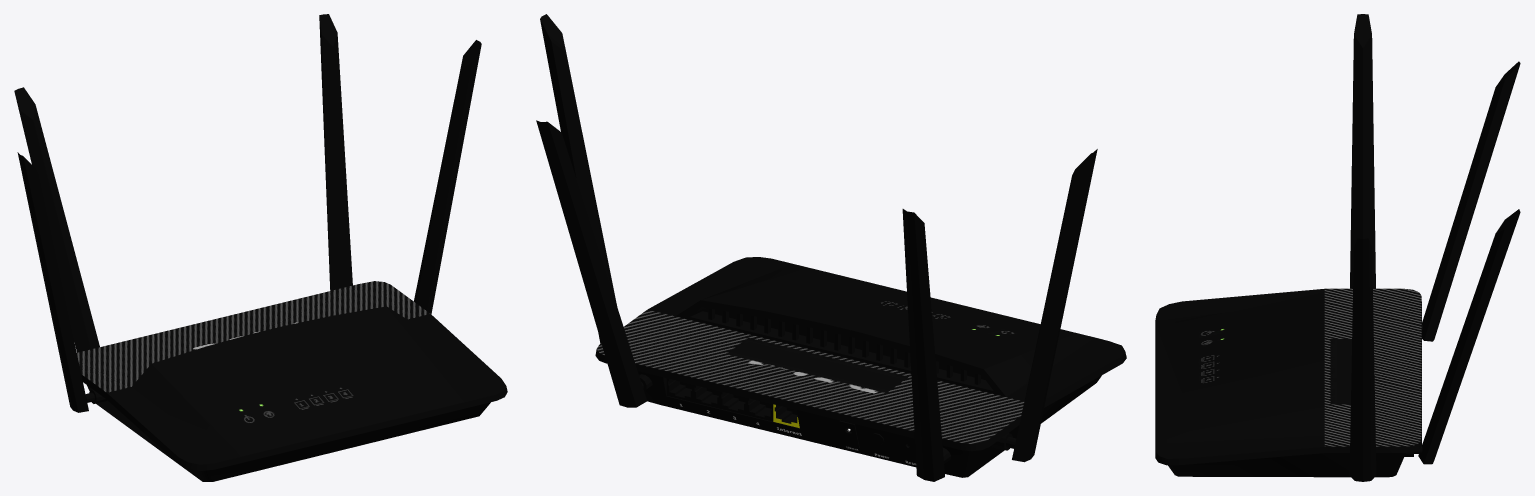
File: dev-router_lod1.glb
The picture shows the model from 3 angles, left to right: view 1: azimuth 30°, elevation 25°; view 2: azimuth 150°, elevation 25°; view 3: azimuth 270°, elevation 25°; orthographic projection. The views are drawn at different scales.
Parts seen in each view (by area): view 1: body; view 2: body; view 3: body.
Boxes of the visible parts, <box> form: body: <box>14,14,507,481</box>; body: <box>536,14,1126,481</box>; body: <box>1155,14,1520,481</box>.
Bounding box in the file's own units: 0.3 × 0.1781 × 0.2057.
6 materials, 2 textured.
